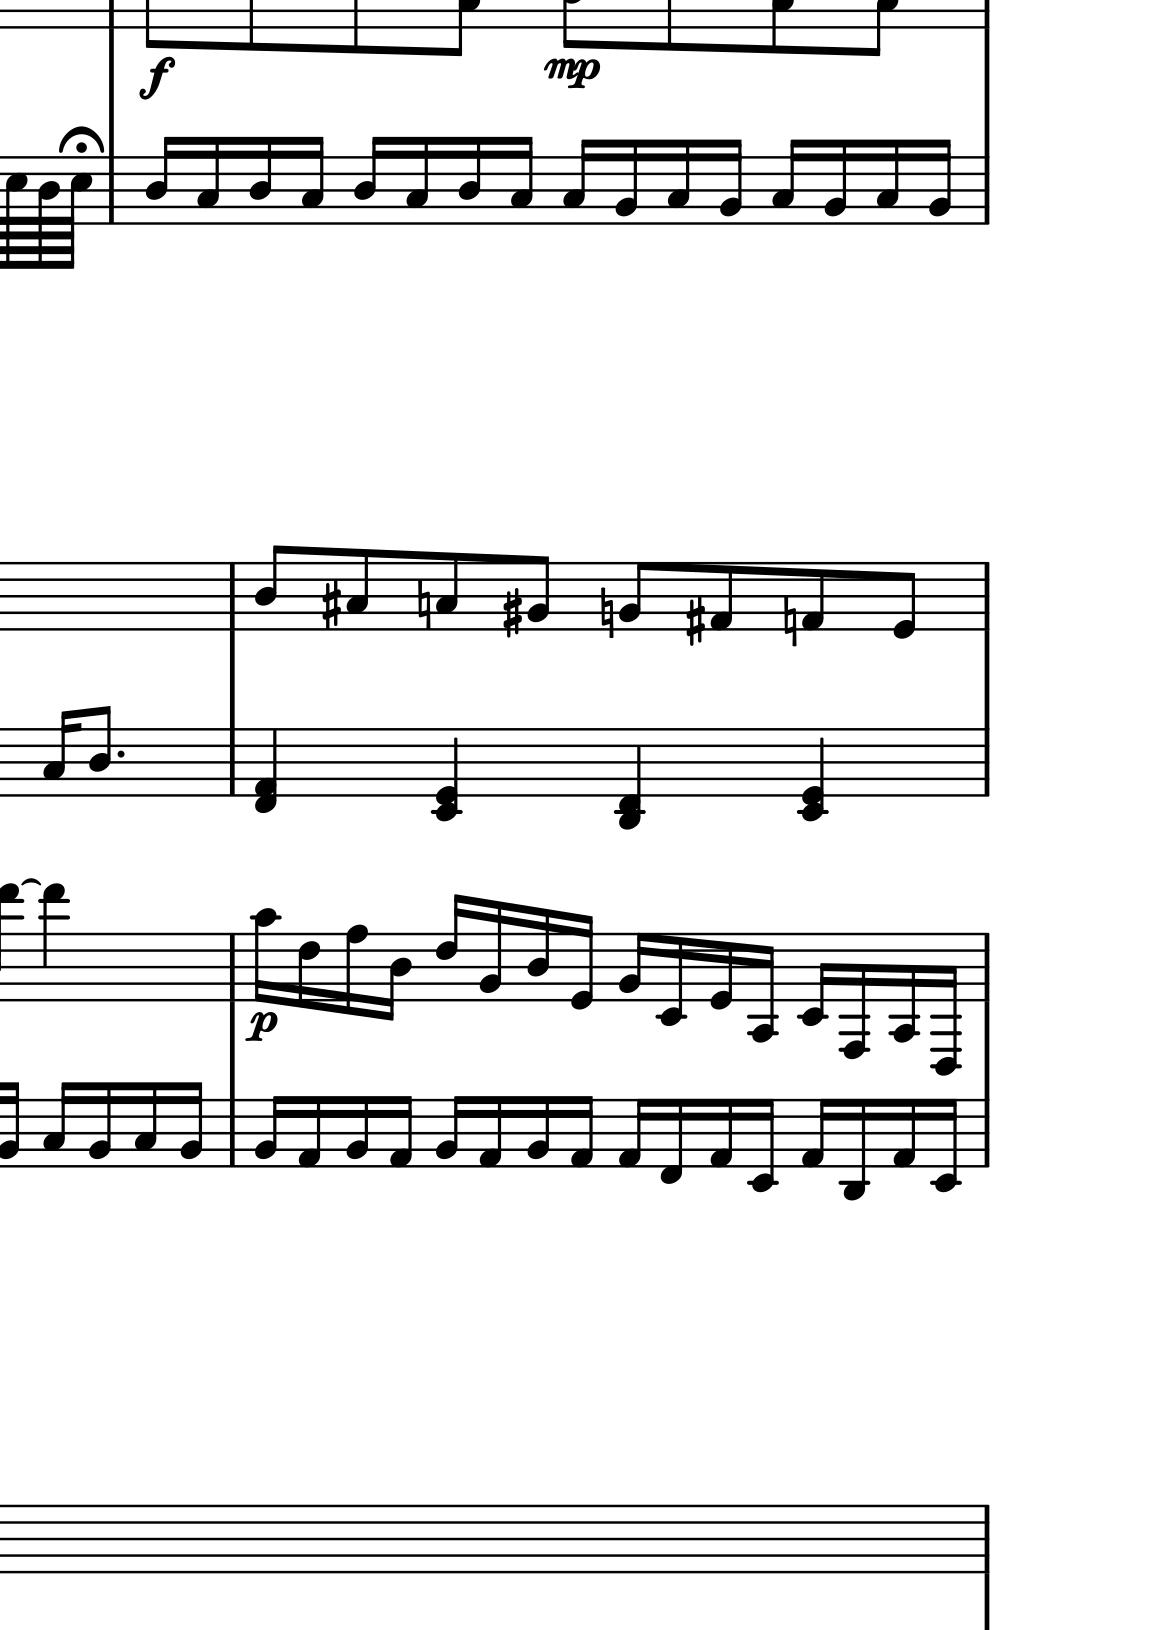16_-1: (660, 1095, 686, 1188)
16_-2: (798, 931, 830, 1031), (748, 1098, 780, 1193), (657, 931, 687, 1028), (934, 1097, 960, 1195)
16_-3: (842, 1097, 868, 1204)
16_-4: (747, 932, 778, 1046), (891, 930, 920, 1043)
16_-6: (839, 930, 871, 1060)
16_-8: (933, 931, 961, 1075)
16_0: (569, 912, 593, 1013), (706, 932, 734, 1012)
16_1: (616, 1095, 653, 1170), (800, 1099, 833, 1171), (386, 1094, 415, 1170), (567, 1095, 595, 1171), (478, 1094, 504, 1168), (891, 1097, 918, 1169), (298, 1095, 323, 1170), (708, 1097, 733, 1170)
16_10: (251, 902, 281, 1006)
16_2: (478, 898, 505, 1004), (254, 1094, 290, 1169), (434, 1093, 469, 1168), (180, 1080, 207, 1166), (615, 136, 641, 226), (719, 138, 744, 229), (825, 137, 850, 228), (618, 932, 650, 1004), (89, 1079, 113, 1169), (929, 138, 953, 226), (527, 1095, 551, 1169), (347, 1094, 370, 1168)
16_3: (42, 708, 82, 796), (39, 1079, 74, 1166), (770, 137, 804, 227), (564, 136, 596, 226), (502, 136, 534, 226), (295, 135, 325, 226), (404, 135, 434, 226), (666, 136, 693, 226), (198, 135, 223, 228), (133, 1080, 160, 1169), (876, 137, 901, 226)
16_4: (352, 135, 386, 224), (145, 135, 177, 226), (525, 906, 552, 1003), (458, 135, 484, 226), (385, 931, 411, 1021), (249, 136, 274, 226)
16_6: (433, 892, 469, 1004), (297, 932, 320, 1012)
16_8: (342, 923, 369, 1019)
4_-1_1: (256, 727, 281, 813)
4_-2_0: (430, 727, 463, 822), (795, 727, 828, 821)
4_-3_-1: (613, 727, 647, 830)
4_13: (40, 884, 67, 1003)
64_4: (37, 158, 60, 270)
64_5: (61, 155, 95, 272)
8_0: (890, 560, 918, 641)
8_1: (800, 561, 828, 631), (709, 560, 736, 631)
8_2: (620, 560, 650, 631), (526, 553, 552, 632)
8_3: (433, 551, 461, 632), (344, 547, 372, 631)
8_4: (253, 543, 286, 633), (89, 705, 113, 799)
Dot: (113, 748, 126, 761)
Fermata_above: (57, 127, 105, 156)
Flat: (416, 579, 431, 629)
Natural: (597, 584, 617, 641), (782, 594, 799, 651)
Sharp: (683, 594, 706, 648), (320, 581, 342, 632), (501, 589, 522, 637)
Single_barline: (972, 728, 996, 798), (974, 563, 997, 631), (972, 1099, 996, 1166), (975, 156, 997, 224), (223, 933, 246, 1001), (222, 728, 243, 798), (222, 563, 243, 631), (223, 1099, 243, 1166), (102, 156, 121, 224), (975, 933, 994, 1001)
dot: (113, 748, 126, 761)
f: (135, 51, 177, 100)
mp: (534, 49, 603, 93)
p: (243, 1008, 283, 1048)
